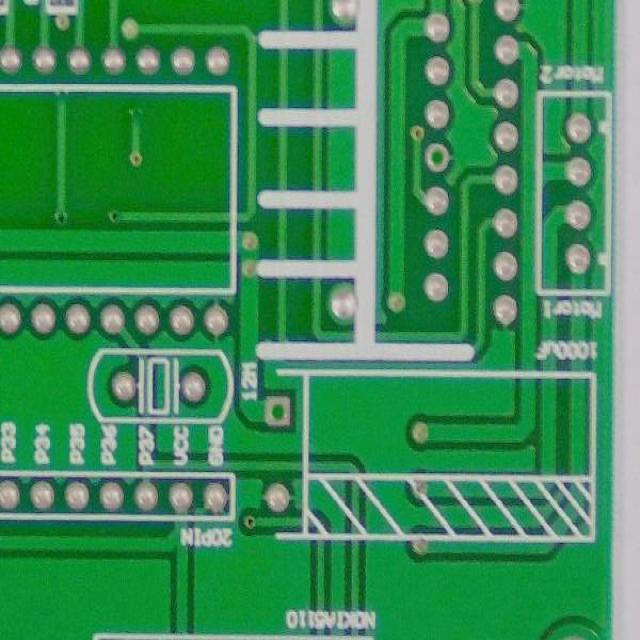missing hole: (260, 386, 299, 434), (419, 140, 456, 179)
